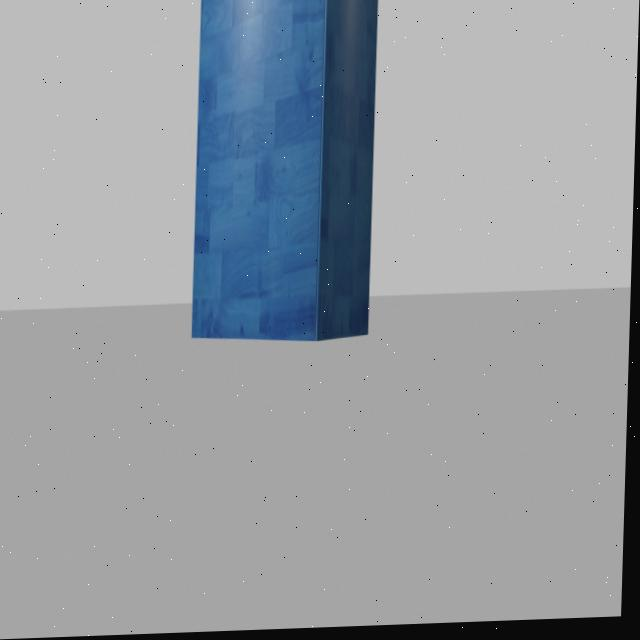shelf: (172, 0, 392, 359)
